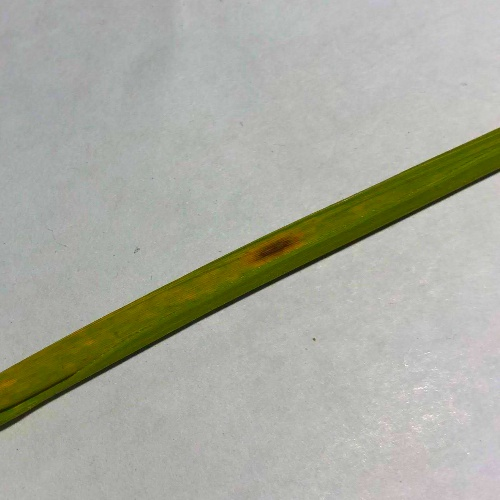Bercak Coklat: (240, 231, 305, 265)
